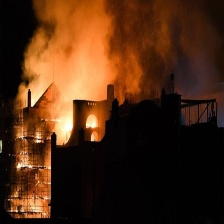fire: (56, 113, 108, 138), (5, 190, 50, 218), (9, 151, 36, 176)
smoke: (22, 1, 196, 95)
